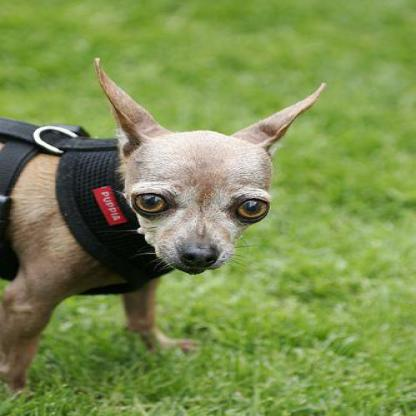dog: (15, 50, 327, 388)
